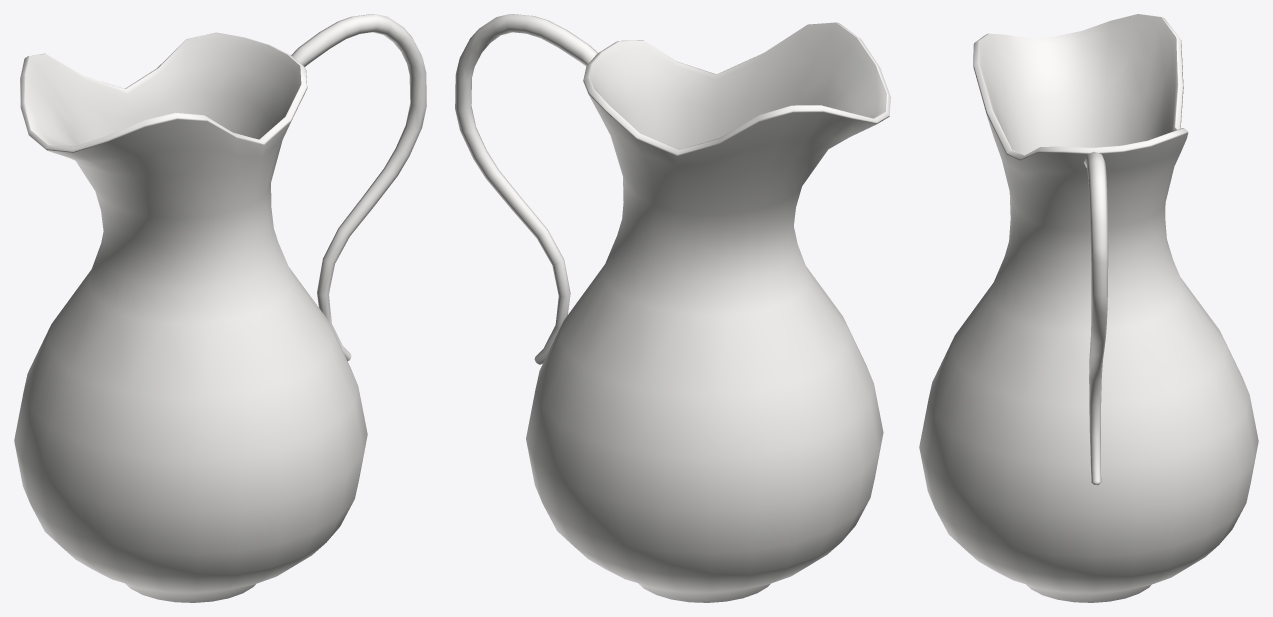
The model's file is Jug_with_water_1.glb.
3 renders of one model, left to right at view 1: azimuth 30°, elevation 25°; view 2: azimuth 150°, elevation 25°; view 3: azimuth 270°, elevation 25°, orthographic. The views are drawn at different scales.
Parts seen in each view (by area): view 1: Jug_with_water_1; view 2: Jug_with_water_1; view 3: Jug_with_water_1.
Part boxes in pixels (x1=…): Jug_with_water_1: x1=14, y1=14, x2=426, y2=602; Jug_with_water_1: x1=455, y1=14, x2=890, y2=602; Jug_with_water_1: x1=919, y1=14, x2=1258, y2=602.
Size of the model in its own units: 0.2775 by 0.3411 by 0.2089.
2 materials, 2 textured.
